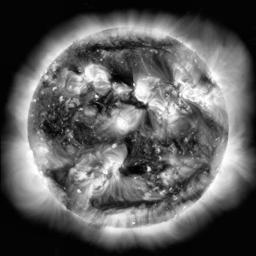solar flares: (74, 167, 111, 195), (110, 106, 140, 138), (153, 95, 179, 127), (188, 88, 222, 110), (85, 66, 111, 89), (169, 61, 188, 88), (99, 148, 121, 166), (102, 213, 147, 221), (63, 74, 82, 92), (114, 85, 134, 100), (137, 84, 151, 99)
sunspots: (96, 44, 168, 53), (99, 198, 153, 208), (72, 122, 94, 144), (113, 69, 134, 90), (123, 137, 131, 174), (49, 167, 68, 182), (128, 162, 147, 176), (154, 58, 168, 76), (43, 120, 64, 132), (177, 138, 192, 152), (141, 109, 154, 125), (92, 97, 110, 108), (128, 98, 145, 109), (202, 75, 210, 86), (158, 165, 166, 174)
